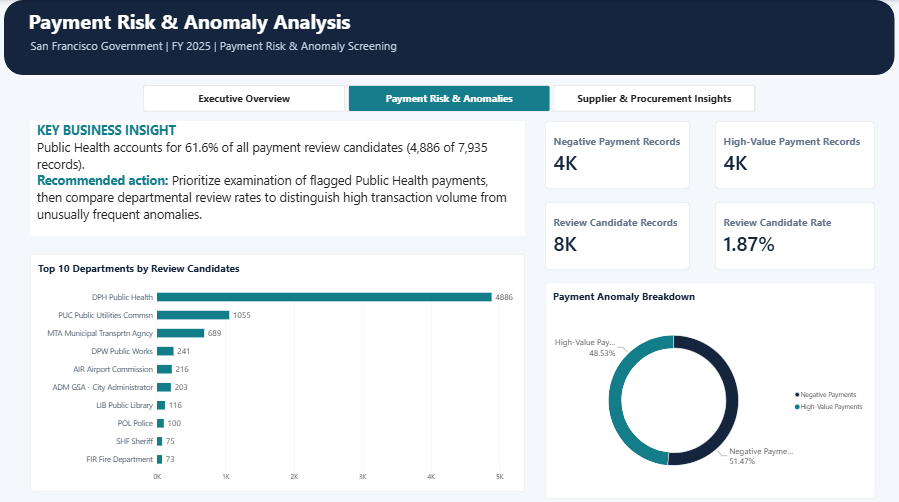

The dashboard page shown, as its layout file describes it:
{"tool":"powerbi","page":{"name":"Payment Risk & Anomalies","canvas":[1920,1080],"ordinal":1},"visuals":[{"type":"shape","box":[12.8,0,1893.6,159.6],"z":0},{"type":"pageNavigator","box":[308.4,180.7,1303.2,57.4],"z":1000},{"type":"textbox","box":[34,14.9,1815.6,95.7],"z":2000},{"type":"textbox","box":[34,80.8,1192.7,48.9],"z":3000},{"type":"cardVisual","fields":{"Data":["vendor_payment_analysis.Review Candidate Records"]},"box":[1162.9,429.4,308.3,144.6],"z":4000},{"type":"cardVisual","fields":{"Data":["vendor_payment_analysis.Negative Payment Records"]},"box":[1162.9,257.2,308.3,144.6],"z":5000},{"type":"cardVisual","fields":{"Data":["vendor_payment_analysis.High-Value Payment Records"]},"box":[1524.3,257.2,340.2,144.6],"z":6000},{"type":"cardVisual","fields":{"Data":["vendor_payment_analysis.Review Candidate Rate"]},"box":[1524.3,429.4,340.2,144.6],"z":7000},{"type":"donutChart","title":"Payment Anomaly Breakdown","fields":{"Category":["Anomaly Categories.Anomaly Type"],"Y":["Anomaly Categories.Anomaly Type Count"]},"box":[1162.9,599.5,701.6,461.3],"z":8000},{"type":"clusteredBarChart","title":"Top 10 Departments by Review Candidates","fields":{"Category":["vendor_payment_analysis.Department"],"Y":["vendor_payment_analysis.Review Candidate Records"]},"box":[68,540,1052.4,506],"z":9000},{"type":"textbox","box":[68,257.2,1052.4,244.5],"z":10000}]}

Visuals, with their boxes in screenshot pixels (x1, y1, x2, y2), scaled from the page's 1920x1080 canvas onto the 899x502 screenshot:
shape: rect(6, 0, 893, 74)
pageNavigator: rect(144, 84, 755, 111)
textbox: rect(16, 7, 866, 51)
textbox: rect(16, 38, 574, 60)
cardVisual - vendor_payment_analysis.Review Candidate Records: rect(545, 200, 689, 267)
cardVisual - vendor_payment_analysis.Negative Payment Records: rect(545, 120, 689, 187)
cardVisual - vendor_payment_analysis.High-Value Payment Records: rect(714, 120, 873, 187)
cardVisual - vendor_payment_analysis.Review Candidate Rate: rect(714, 200, 873, 267)
"Payment Anomaly Breakdown" donutChart: rect(545, 279, 873, 493)
"Top 10 Departments by Review Candidates" clusteredBarChart: rect(32, 251, 525, 486)
textbox: rect(32, 120, 525, 233)
